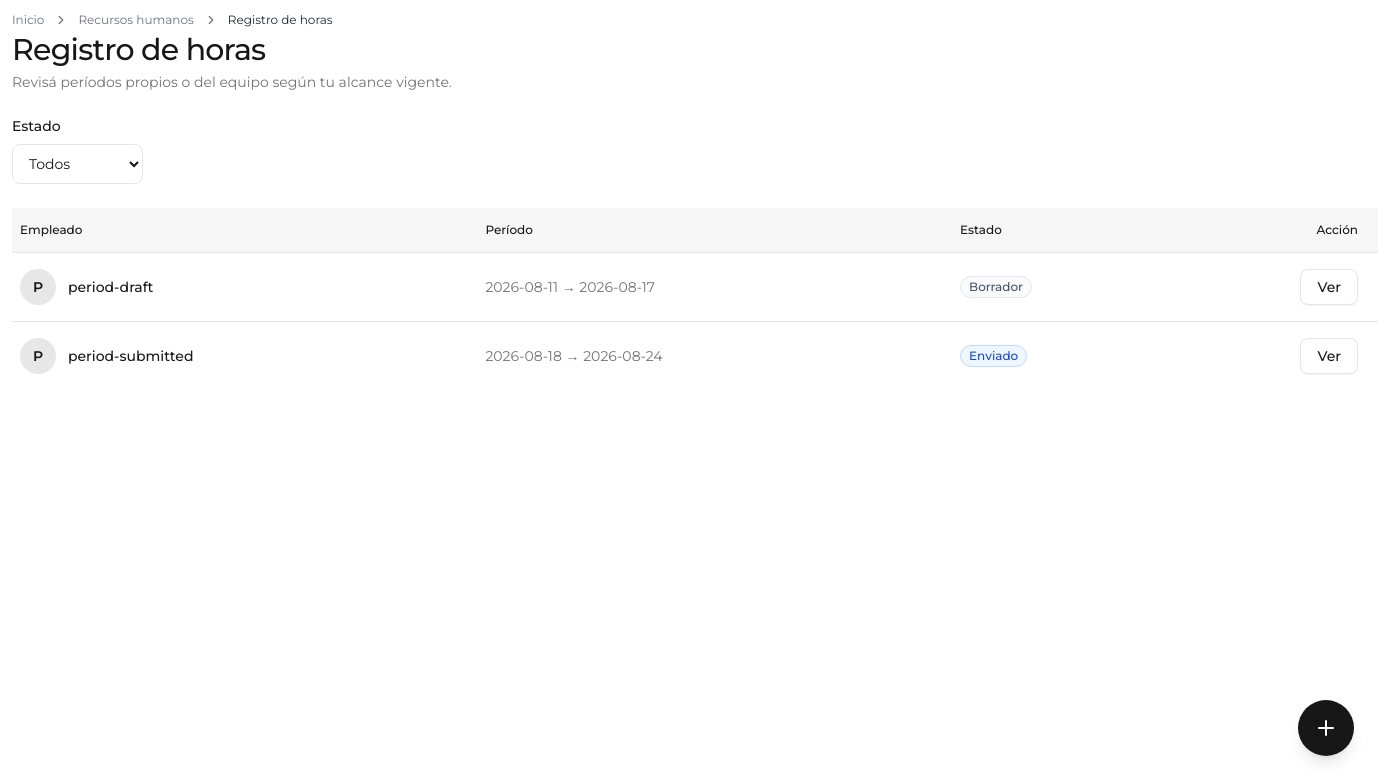
Scenario: TimesheetPeriodsListPage › narrows the list when the status filter changes
expect the text "period-draft" is shown: met, box [68,276,153,296]
expect the text "period-submitted" is shown: met, box [68,346,194,366]
Select "Enviados" in the dropdown labelled "Estado": (78, 164) [12,144,143,184]
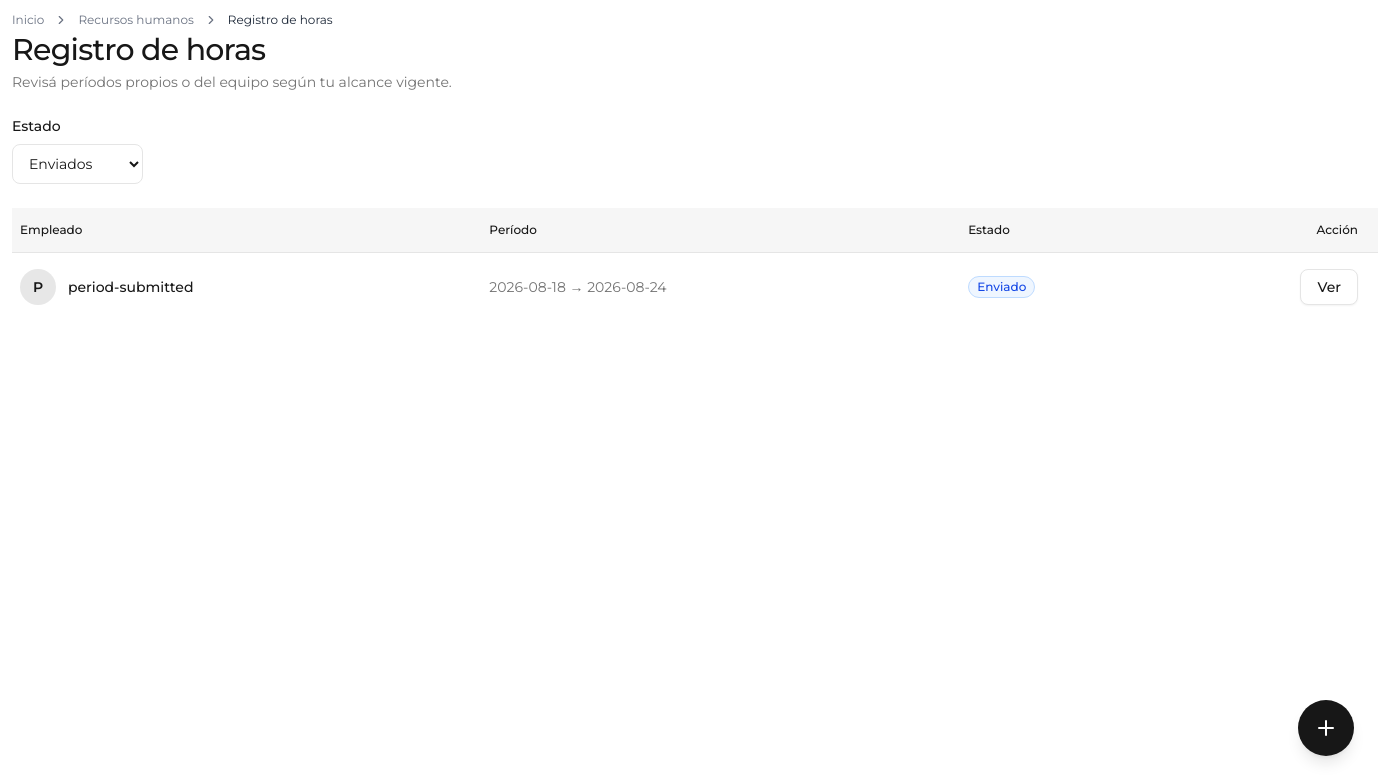
expect the text "period-submitted" is shown: met, box [68,276,194,296]
expect the text "period-draft" is gone: met
